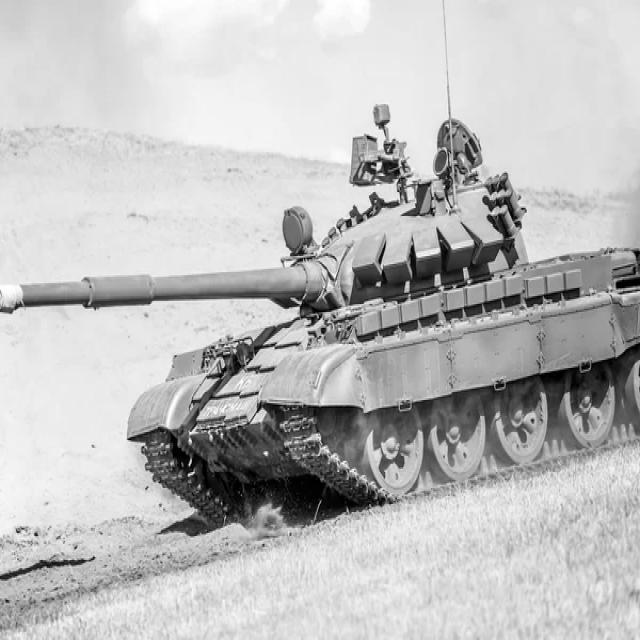Tank: (13, 97, 640, 550)
